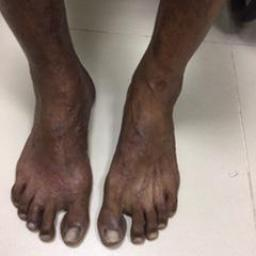Dorsal View -Both Feet-: (8, 39, 207, 254)
